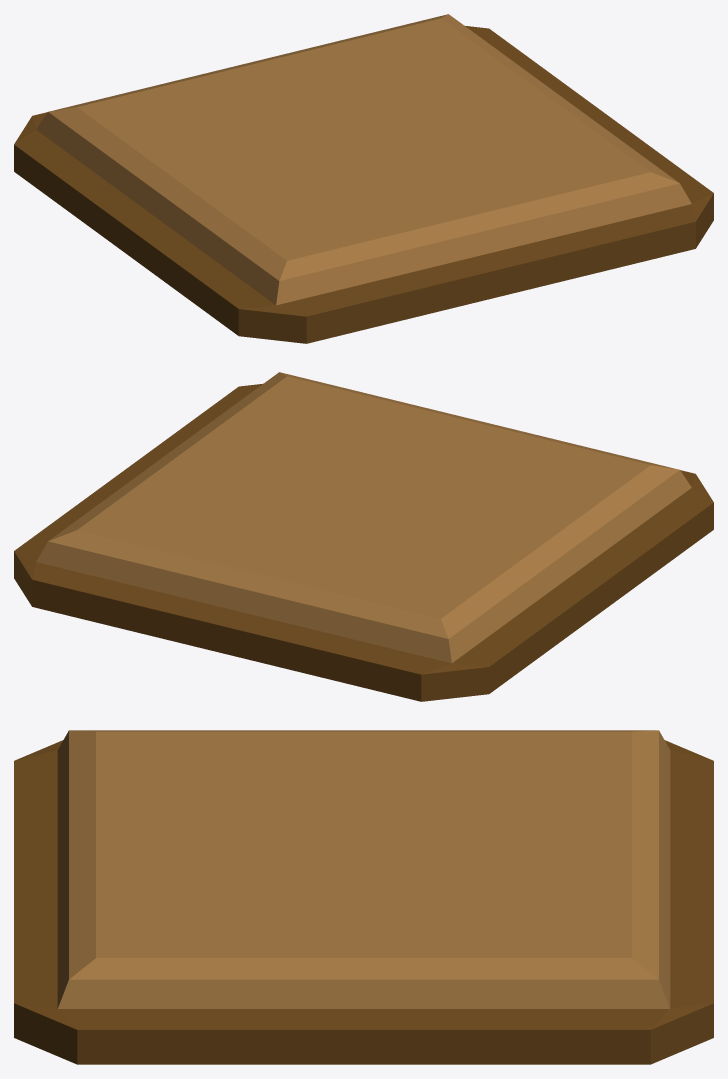
File: TrapPressurePlate.glb
3 renders of one model, top to bottom at view 1: azimuth 30°, elevation 25°; view 2: azimuth 150°, elevation 25°; view 3: azimuth 270°, elevation 25°, orthographic. The views are drawn at different scales.
Parts seen in each view (by area): view 1: PressurePlate; view 2: PressurePlate; view 3: PressurePlate.
Part boxes in pixels (x1,y1,x2,y2): PressurePlate: [14, 14, 713, 343]; PressurePlate: [14, 372, 713, 701]; PressurePlate: [14, 730, 713, 1064].
Bounding box in the file's own units: 1.28 × 0.145 × 1.28.
